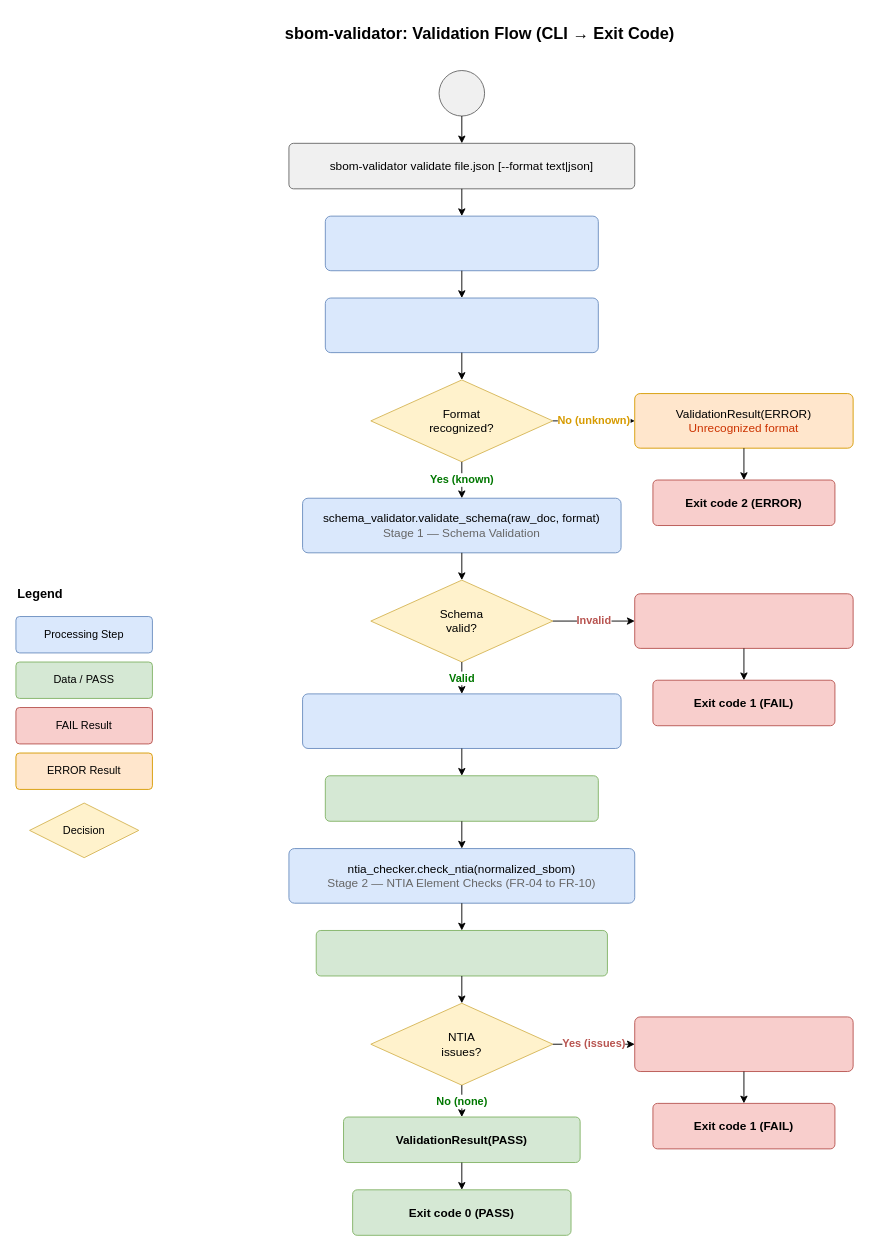
Image size: 869x1251. Some labels were removed from this diagram. Each missing label, with the box of its shape:
Call parser: parse_spdx(raw_doc) or parse_cyclonedx(raw_doc): (302, 693, 621, 748)
CLI receives input calls validator.validate(path): (324, 215, 598, 271)
format_detector.detect_format(path): (324, 297, 598, 353)
NTIA checker returns list[ValidationIssue]: (315, 930, 607, 976)
Parser returns NormalizedSBOM: (324, 775, 598, 821)
User: (438, 70, 485, 116)
ValidationResult(FAIL) All NTIA issues reported: (634, 1016, 853, 1072)
ValidationResult(FAIL) Schema issues reported: (634, 593, 853, 648)
